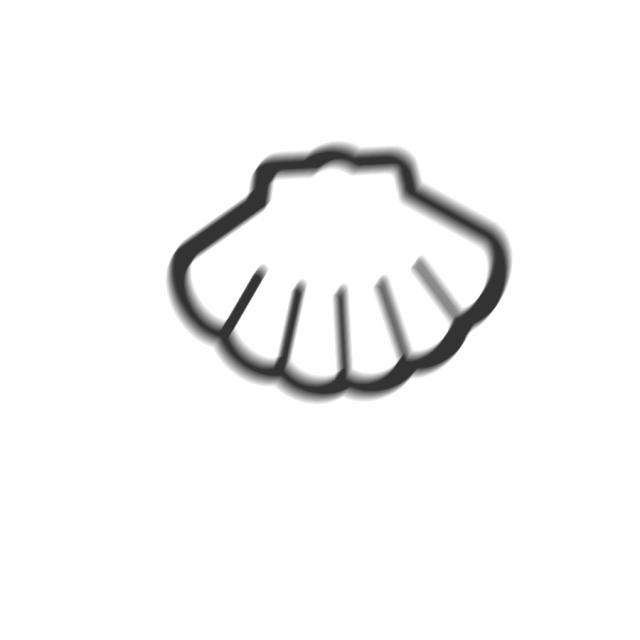shell: (159, 136, 518, 411)
